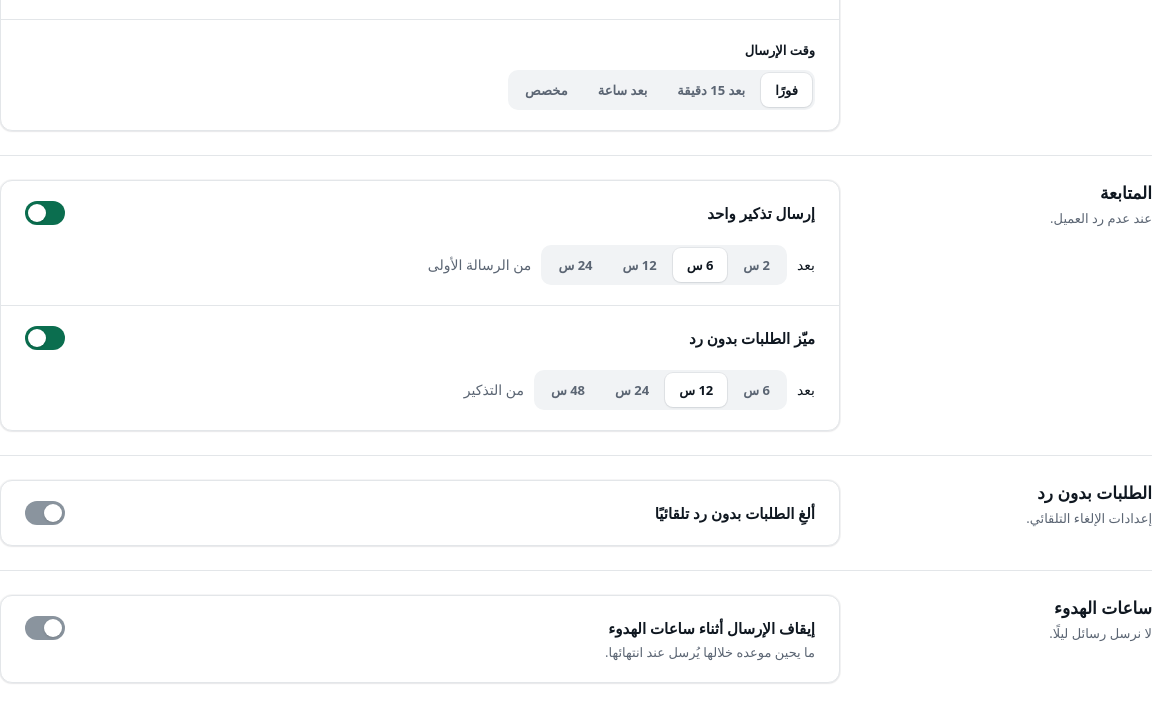
Test: standalone Timing tab › starts from the store zone when quiet hours are first turned on
The image size is (1164, 715).
(page scrolled)
Click the switch named "إيقاف الإرسال أثناء ساعات الهدوء" in the row of "إيقاف الإرسال أثناء ساعات الهدوء". click: (45, 628)
box: [25,616,65,640]
(page scrolled)
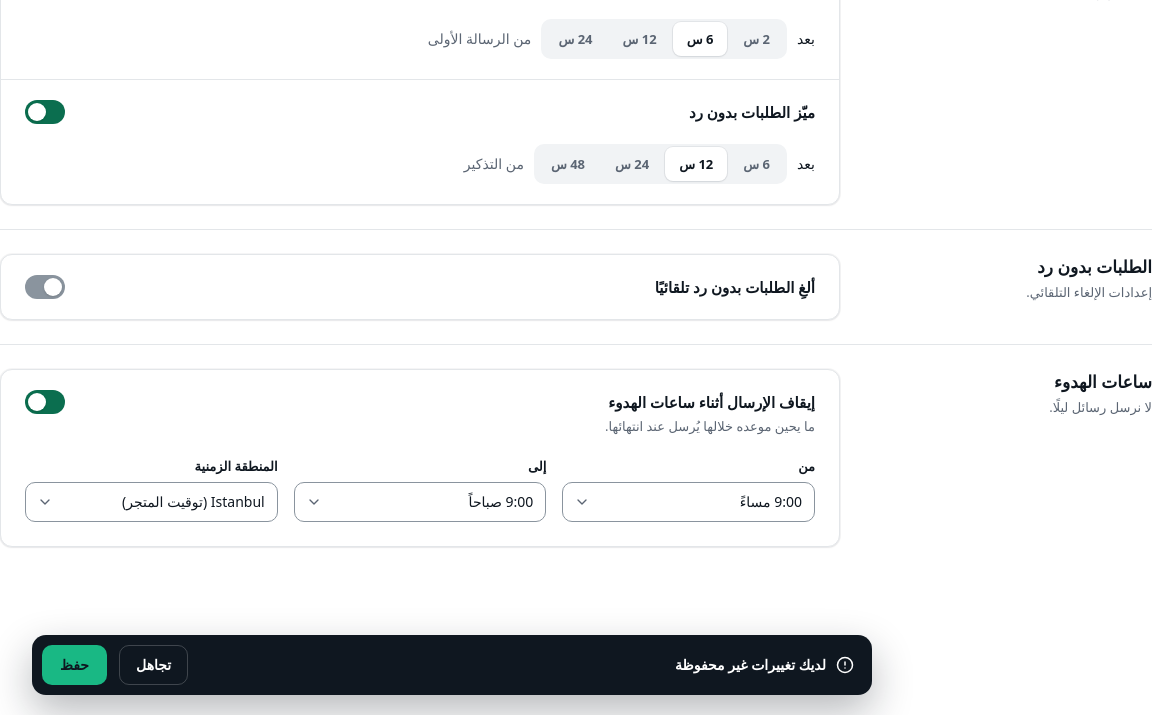
Expected: the dropdown labelled "المنطقة الزمنية" shows "Istanbul (توقيت المتجر)", [25,482,278,522]
